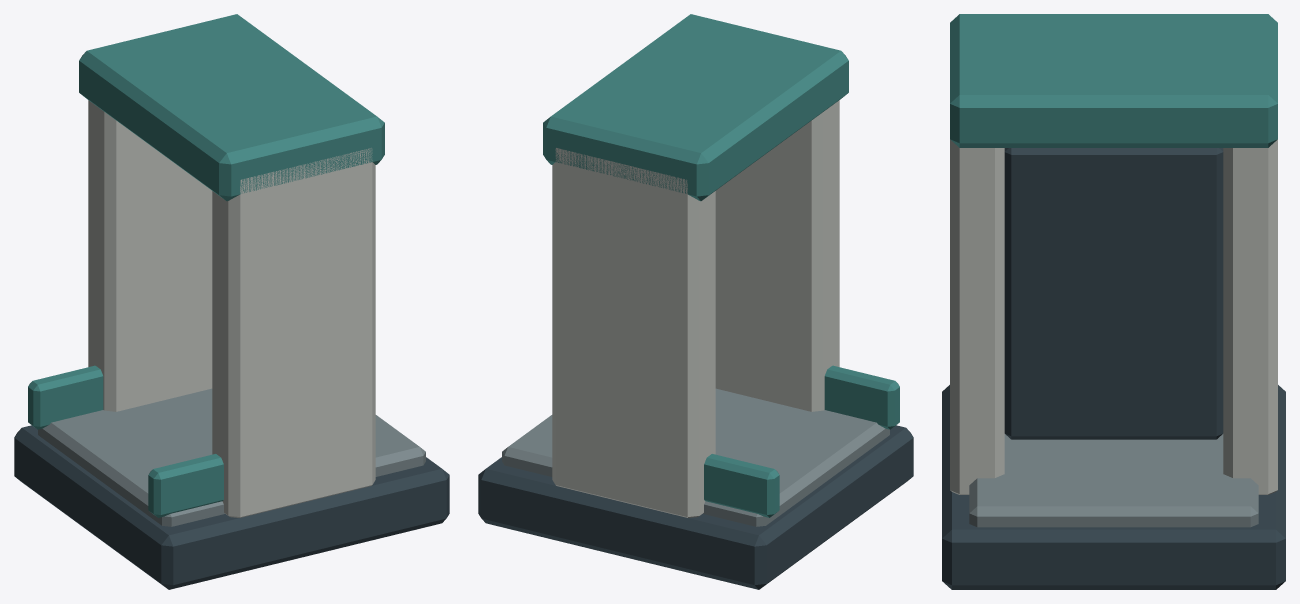
Rendered from phw_dock_in.glb.
3 views of the same model, side by side, from view 1: azimuth 30°, elevation 25°; view 2: azimuth 150°, elevation 25°; view 3: azimuth 270°, elevation 25° (orthographic). The views are drawn at different scales.
Visible parts, largest first — view 1: body; view 2: body; view 3: body, door.
Part boxes in pixels (x1=…): body: x1=14, y1=14, x2=449, y2=589; body: x1=478, y1=14, x2=913, y2=589; body: x1=942, y1=14, x2=1285, y2=589; door: x1=1004, y1=148, x2=1223, y2=439.
Size of the model in its own units: 0.94 by 1.31 by 0.88.
